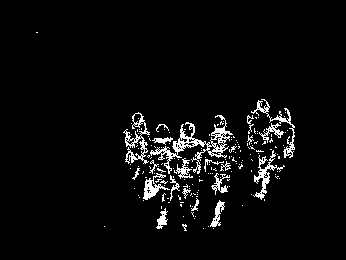person: (205, 115, 244, 231), (173, 121, 205, 230), (148, 123, 180, 231), (262, 106, 294, 202), (124, 111, 154, 209), (247, 98, 268, 182)
